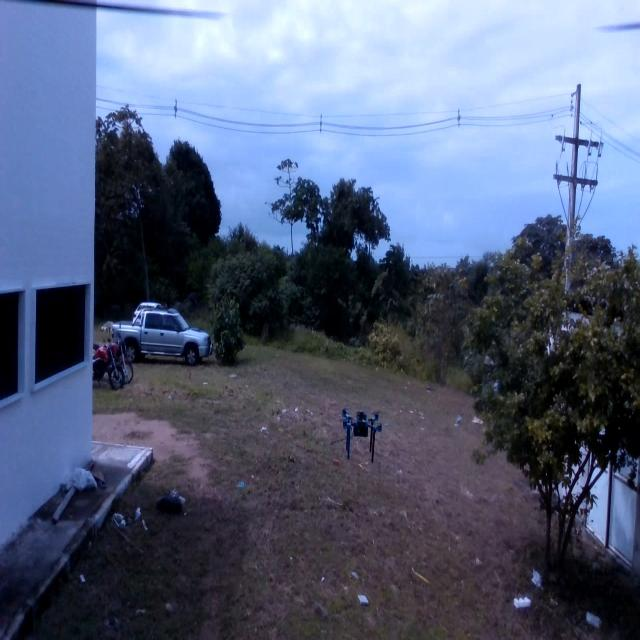-uav-: (338, 388, 384, 470)
